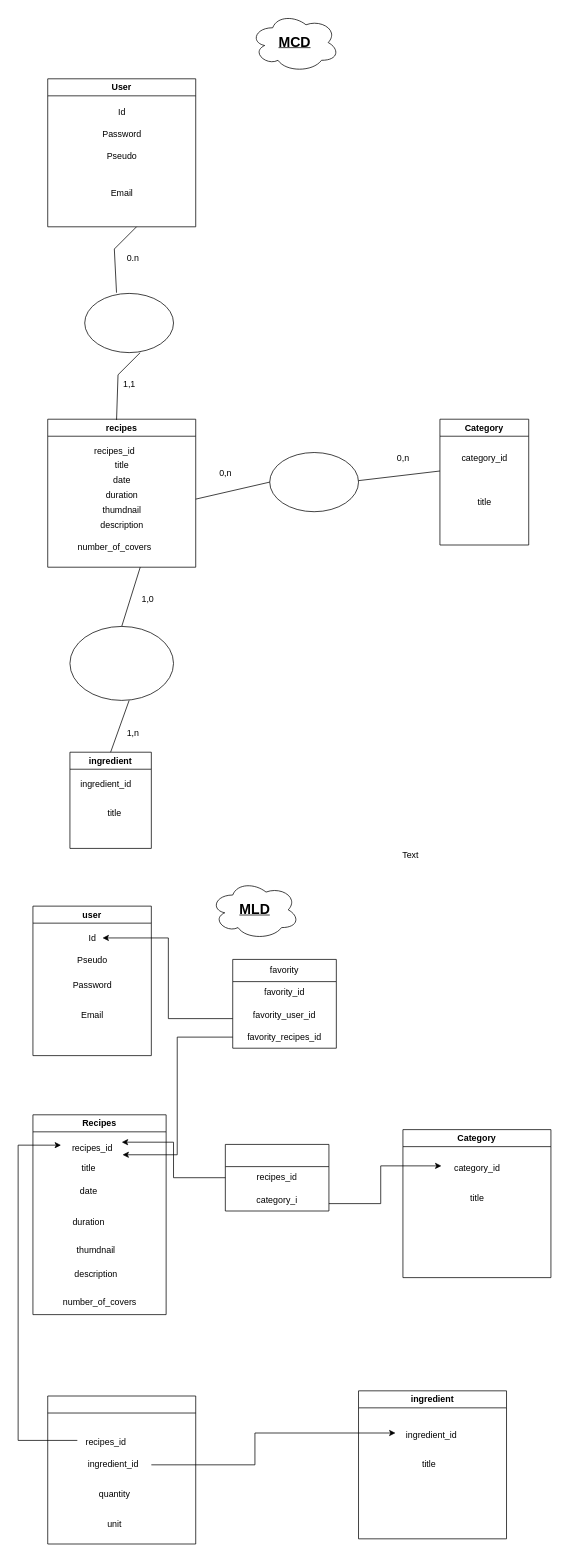
The diagram is 564 pixels wide and 1557 high, and some of its shapes have lost their labels. The shapes that lost their labels are listed below. From the top down, each one's box as (x1, y1, x2, y2) in pixels, then its label:
(84, 293, 174, 353): Creat recipes/ favority
(269, 452, 359, 512): appartient
(69, 626, 174, 700): composé de quantity unit
(225, 1144, 329, 1211): Category_recipes
(47, 1395, 196, 1544): ingredient_recipes
